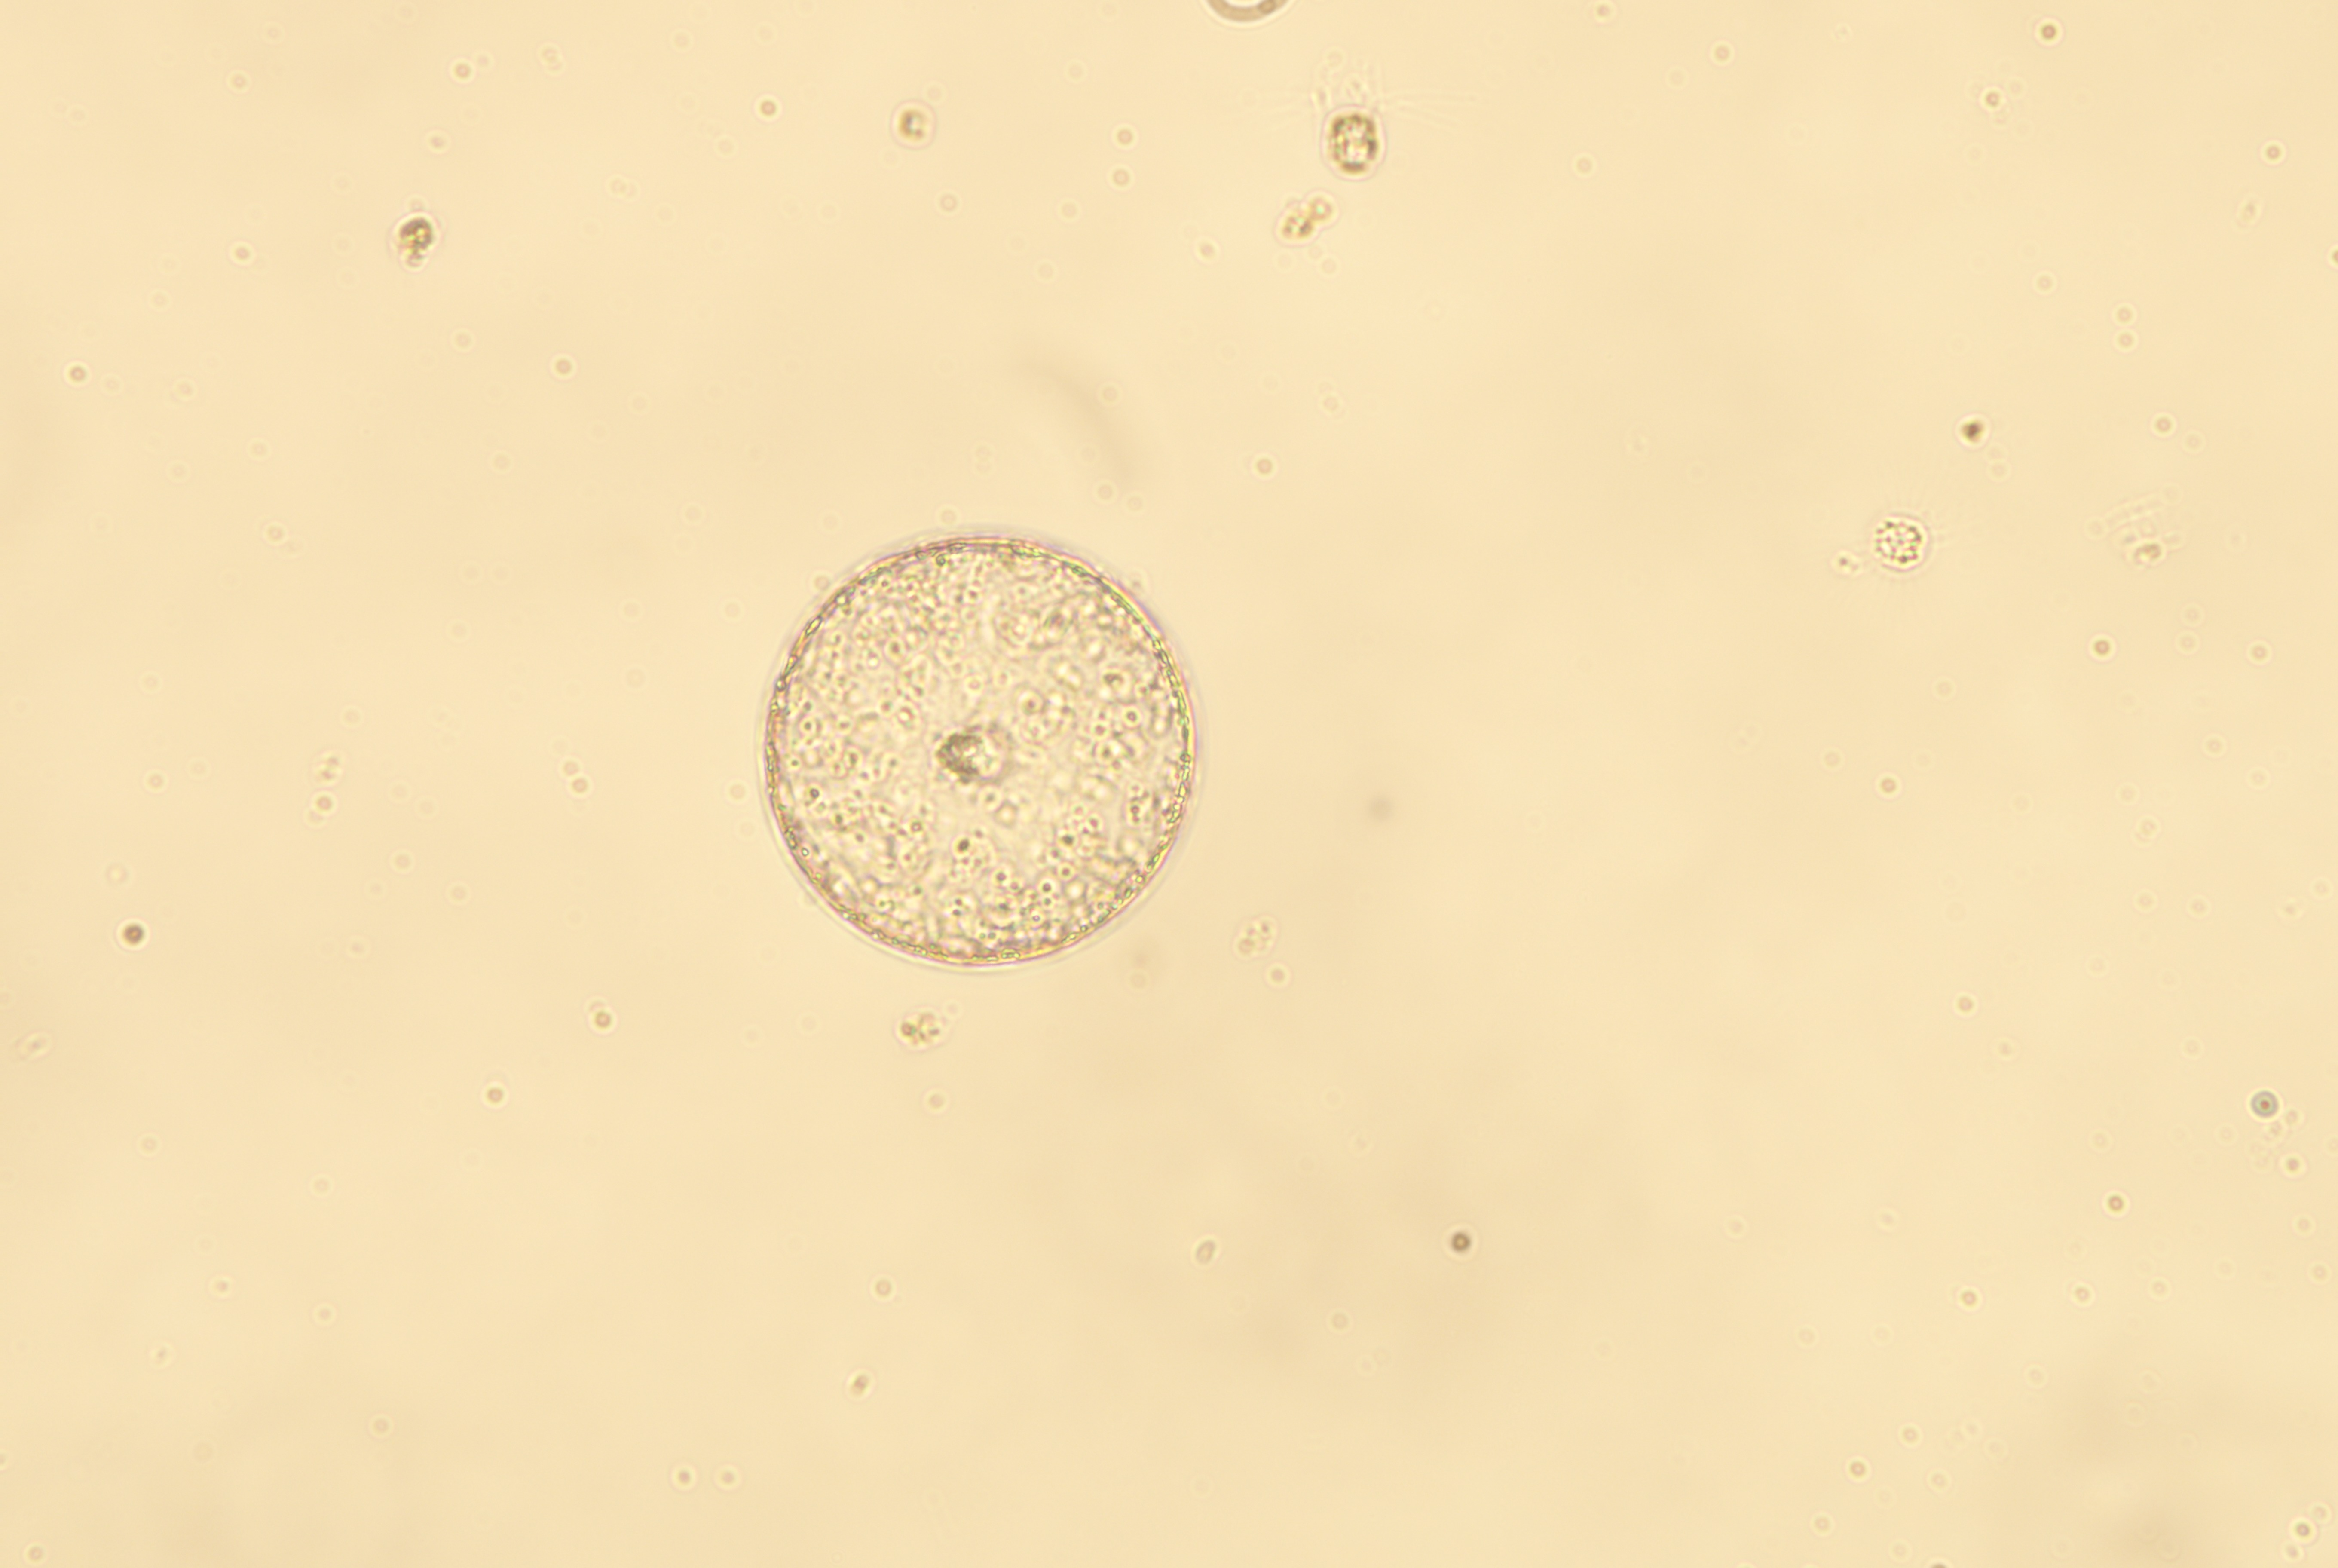coscinodiscus: (758, 527, 1199, 973)
